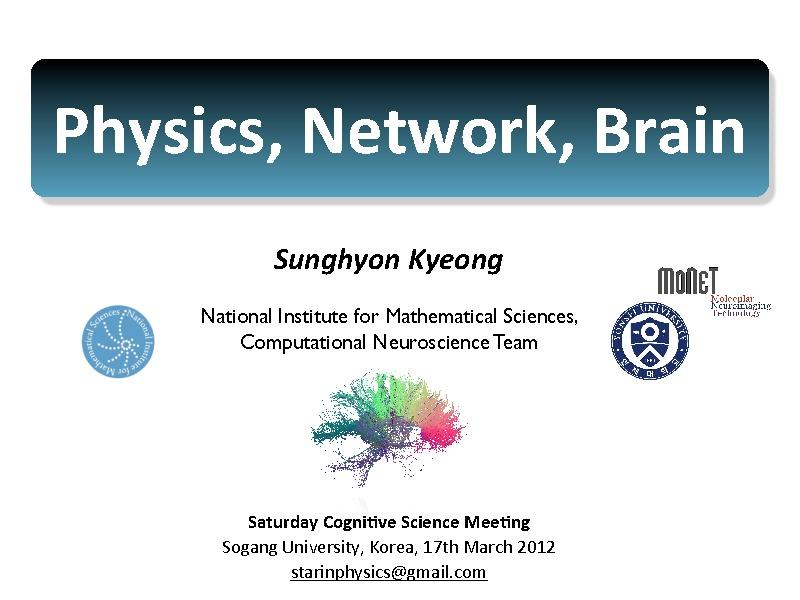title: (51, 86, 755, 178)
